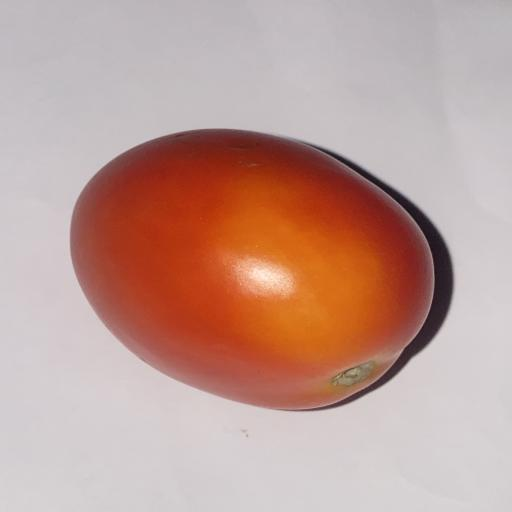ripe: (71, 130, 434, 409)
